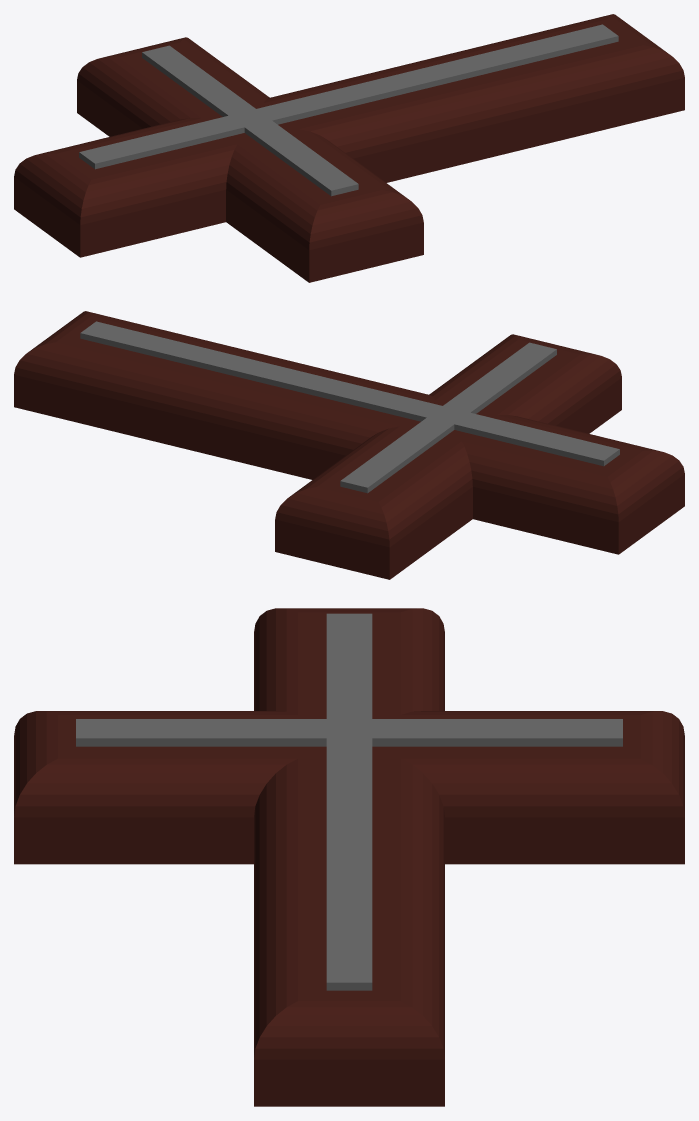
Rendered from Crucifix.fbx.
3 views of the same model, one above another, from view 1: azimuth 30°, elevation 25°; view 2: azimuth 150°, elevation 25°; view 3: azimuth 270°, elevation 25° (orthographic). The views are drawn at different scales.
Visible parts, largest first — view 1: Plane, Plane.001; view 2: Plane, Plane.001; view 3: Plane, Plane.001.
Part boxes in pixels (x1=…): Plane: x1=14, y1=14, x2=684, y2=282; Plane.001: x1=79, y1=24, x2=618, y2=196; Plane: x1=14, y1=311, x2=684, y2=579; Plane.001: x1=80, y1=321, x2=619, y2=493; Plane: x1=14, y1=608, x2=684, y2=1106; Plane.001: x1=76, y1=613, x2=622, y2=990.
Bounding box in the file's own units: 228 × 23.75 × 152.
